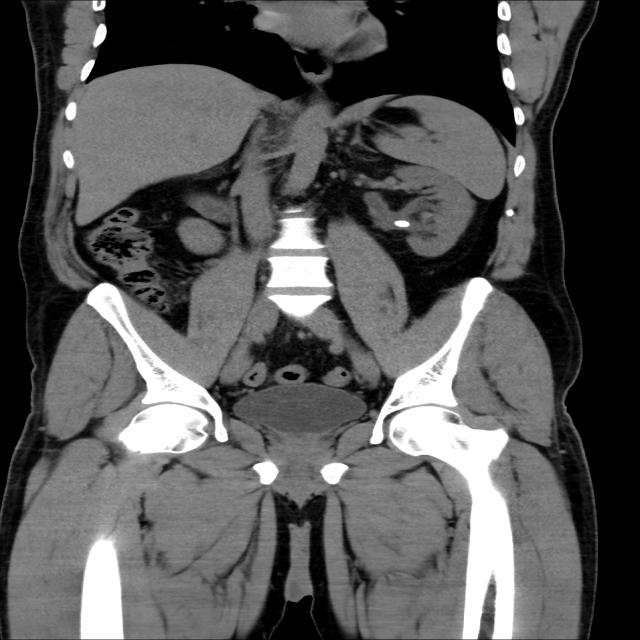kidneystone: (393, 220, 410, 228)
